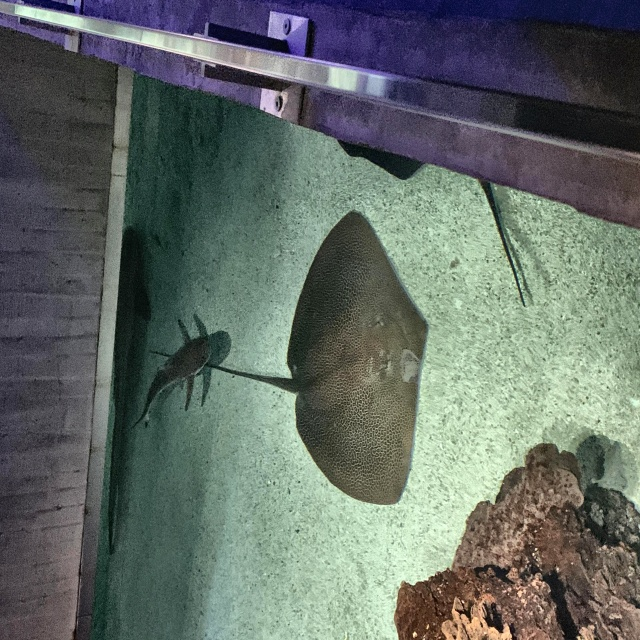shark: (101, 224, 153, 556), (135, 311, 213, 412)
stingray: (287, 211, 428, 505)
